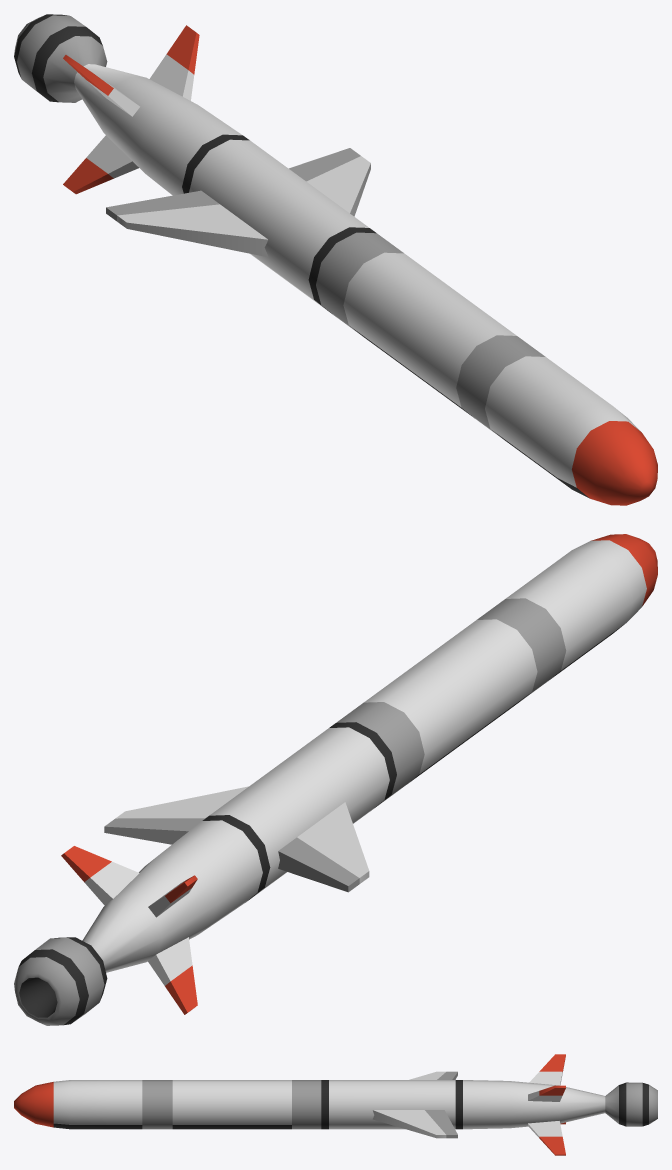
File: missile01.fbx
3 renders of one model, top to bottom at view 1: azimuth 30°, elevation 25°; view 2: azimuth 150°, elevation 25°; view 3: azimuth 270°, elevation 25°, orthographic. The views are drawn at different scales.
Parts seen in each view (by area): view 1: missile01; view 2: missile01; view 3: missile01.
Boxes of the visible parts, x1,y1,x2,y2 form: missile01: [14, 14, 657, 505]; missile01: [14, 534, 657, 1025]; missile01: [14, 1054, 657, 1155].
Size of the model in its own units: 599 by 311 by 2587.
